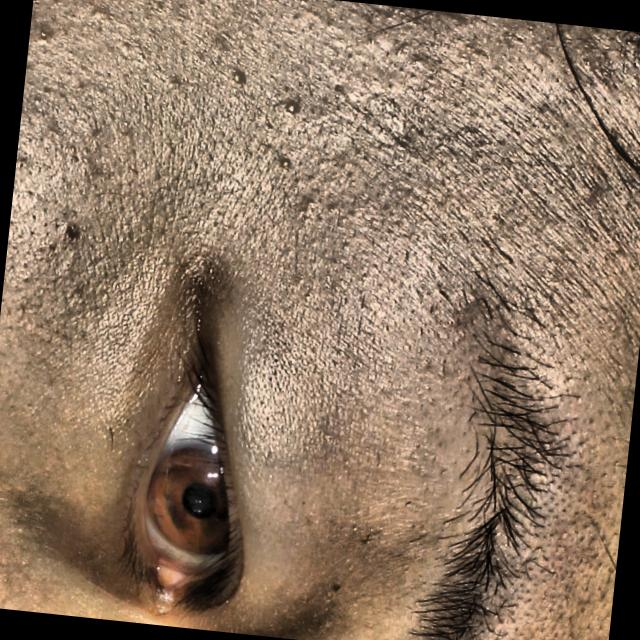whiteheads: (273, 95, 298, 116), (300, 194, 318, 223), (374, 351, 400, 371), (230, 63, 248, 89), (274, 155, 294, 175), (88, 6, 102, 27)
